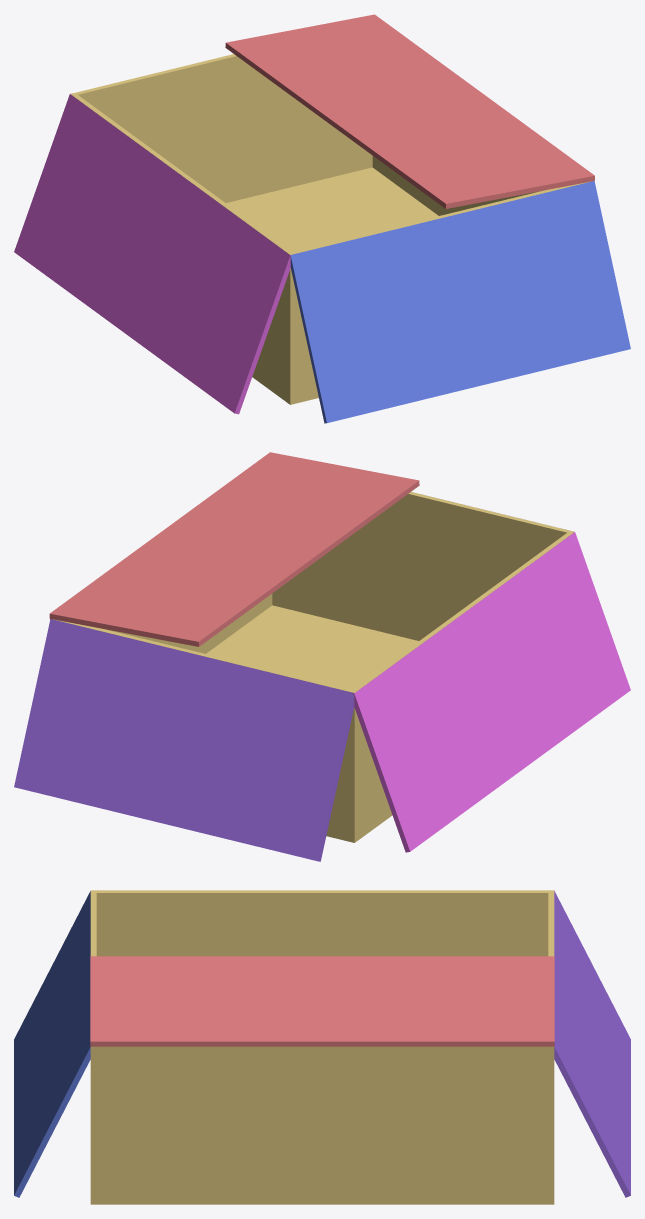
The model's file is ItemContainer.fbx.
The picture shows the model from 3 angles, top to bottom: view 1: azimuth 30°, elevation 25°; view 2: azimuth 150°, elevation 25°; view 3: azimuth 270°, elevation 25°; orthographic projection. The views are drawn at different scales.
Parts seen in each view (by area): view 1: BottomFlap, LeftFlap, ItemContainer, RightFlap; view 2: TopFlap, LeftFlap, ItemContainer, RightFlap; view 3: ItemContainer, RightFlap, BottomFlap, TopFlap.
Part boxes in pixels (bbox=[...]): BottomFlap: bbox=[290, 181, 630, 423]; LeftFlap: bbox=[14, 93, 290, 414]; ItemContainer: bbox=[70, 54, 590, 404]; RightFlap: bbox=[225, 14, 594, 208]; TopFlap: bbox=[14, 619, 354, 861]; LeftFlap: bbox=[351, 532, 630, 852]; ItemContainer: bbox=[50, 492, 574, 842]; RightFlap: bbox=[49, 452, 419, 646]; ItemContainer: bbox=[90, 890, 554, 1204]; RightFlap: bbox=[90, 956, 554, 1046]; BottomFlap: bbox=[14, 891, 90, 1197]; TopFlap: bbox=[554, 891, 630, 1197].
Size of the model in its own units: 60.59 by 26.19 by 85.27.
